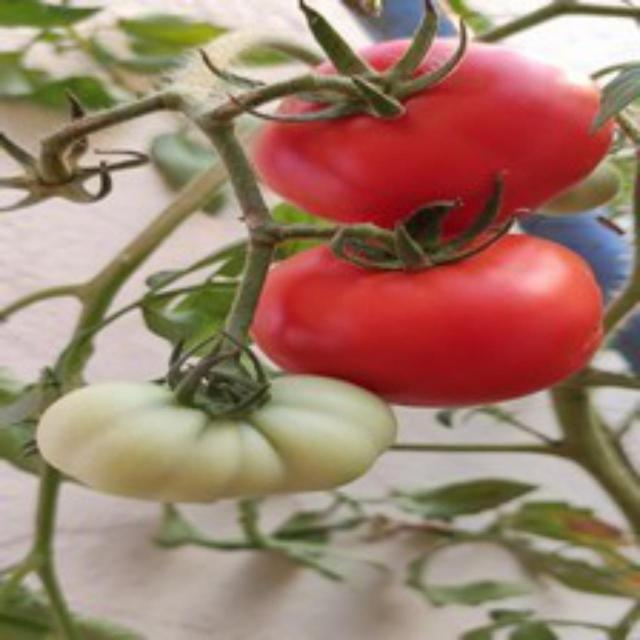tomato: (245, 212, 615, 406), (262, 34, 615, 228)
